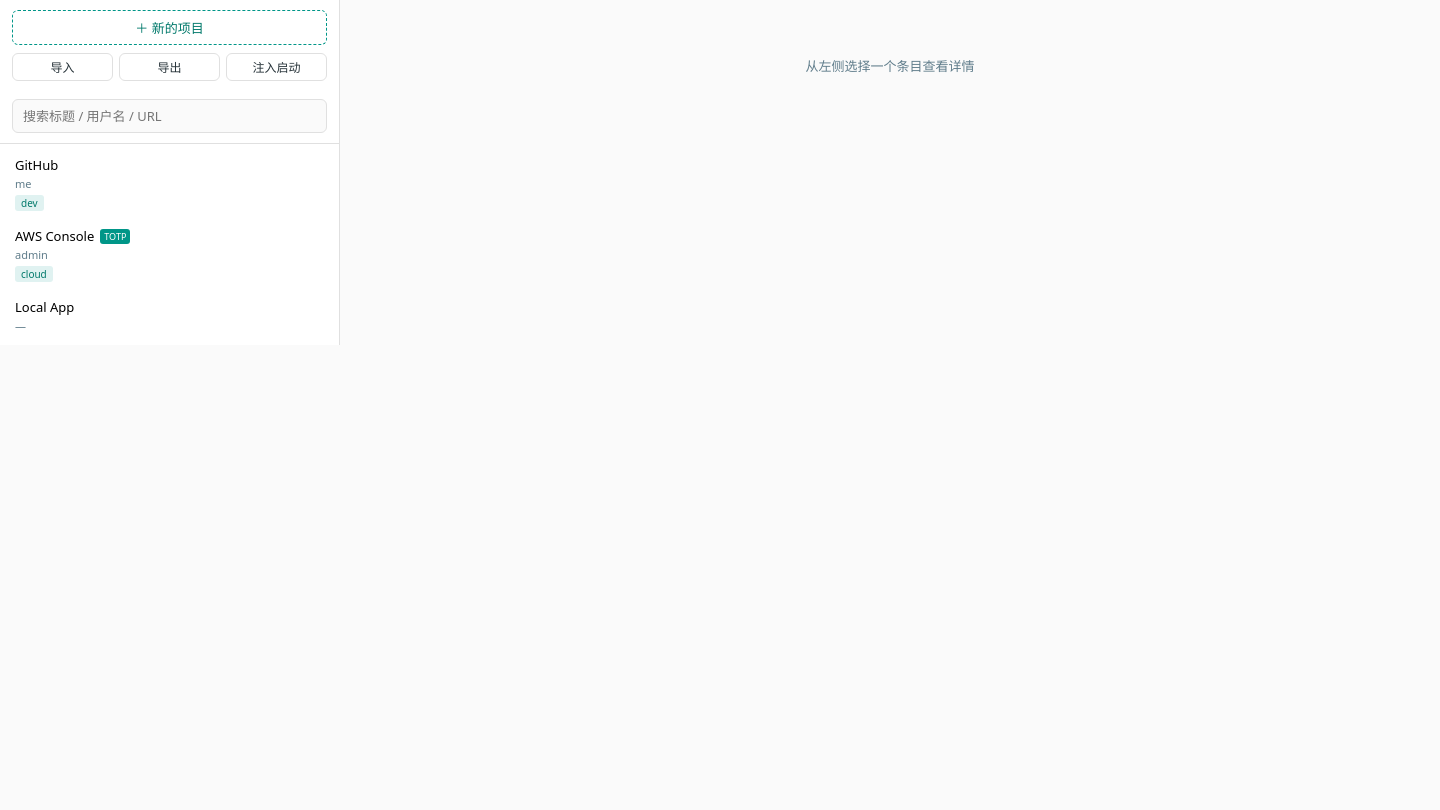
MainView › 「新的项目」→ 创建成功后刷新列表并选中新条目
Click the button with class "new-entry": coordinates (170, 28) [12, 10, 327, 45]
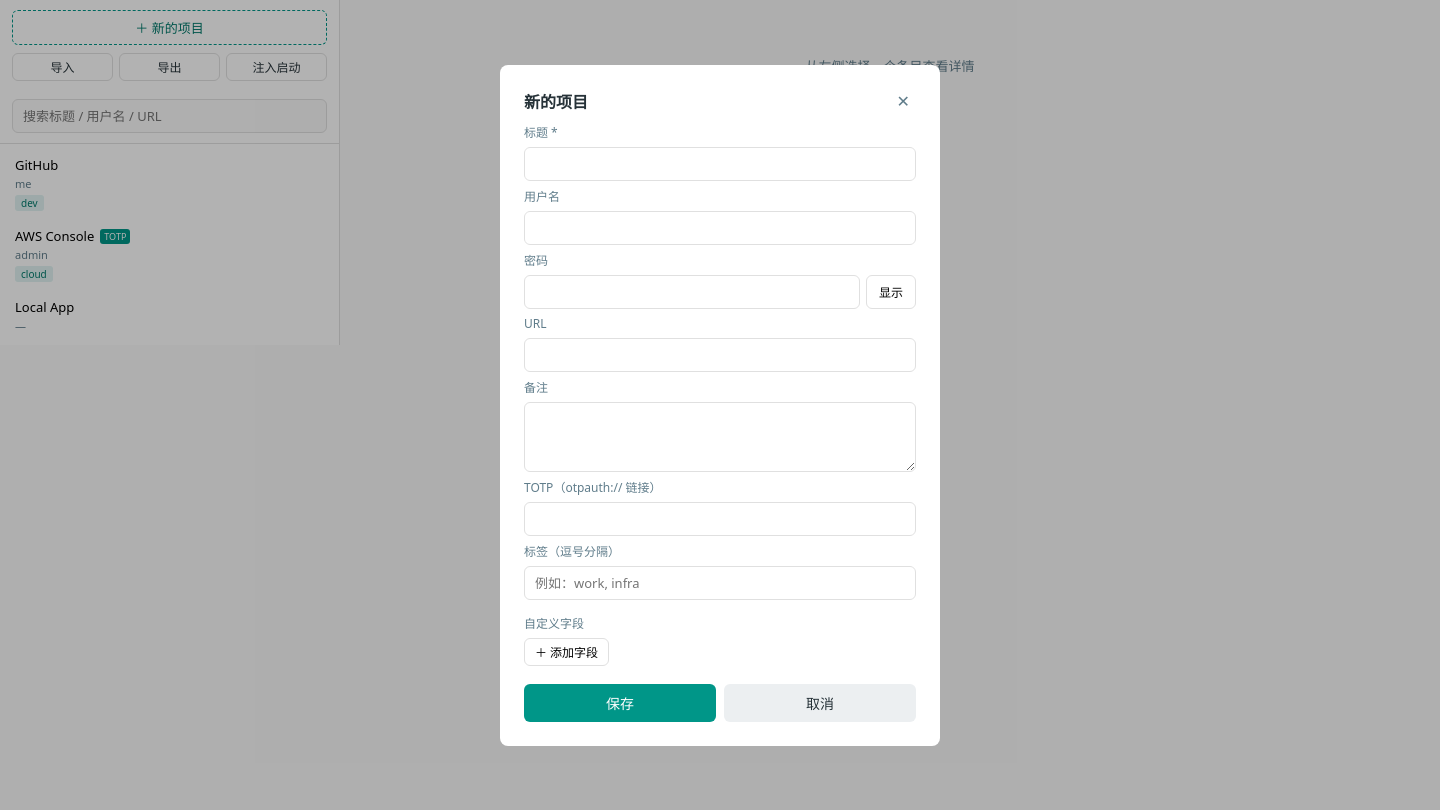
expect the element with class "form-panel" is shown: met, box [500, 64, 940, 746]
expect the element with class "form-panel" shows "新的项目": met, box [524, 90, 588, 112]
In the field with id "f-title": coordinates (720, 164) [524, 146, 916, 180], type "Brand New"
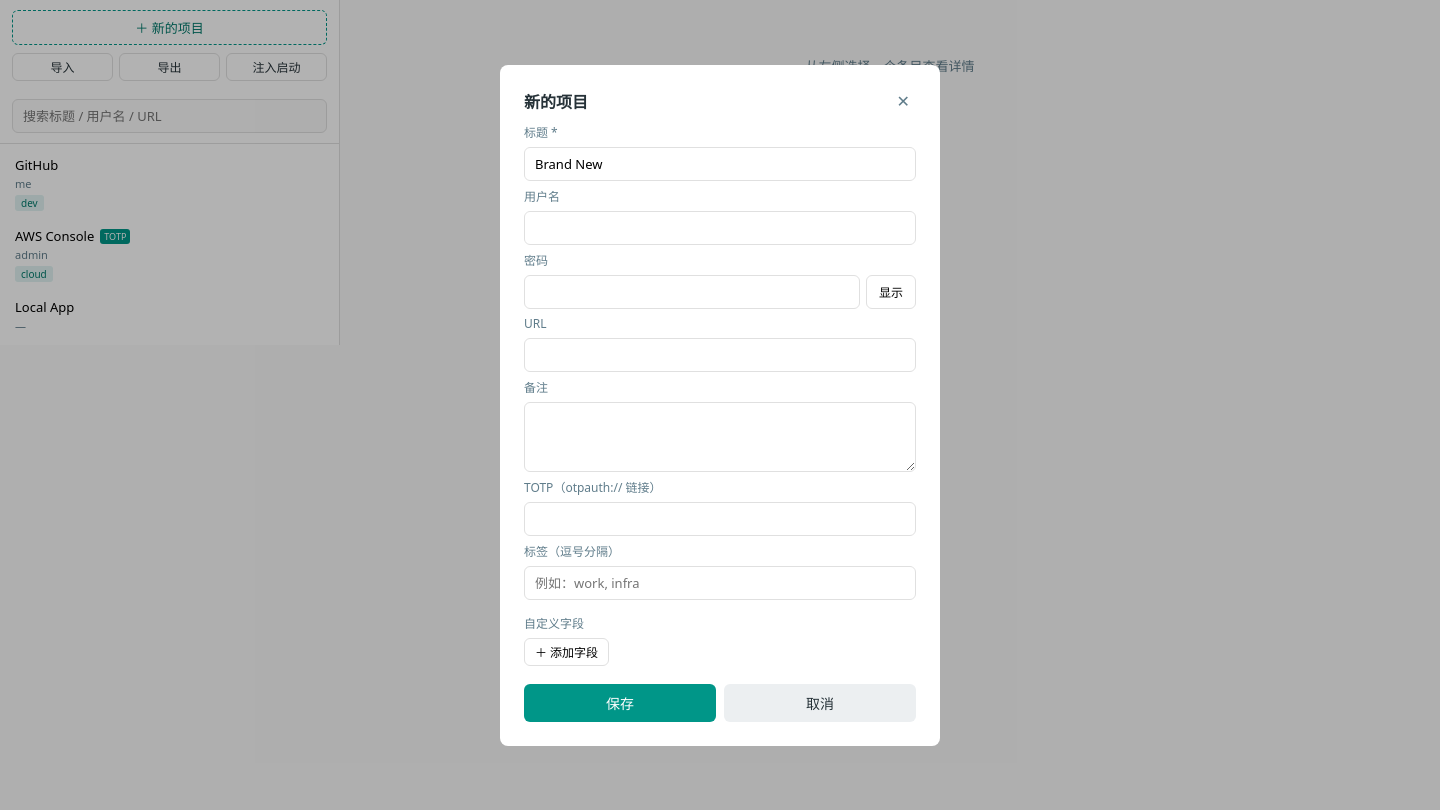
Click the button "保存": coordinates (620, 702) [524, 684, 716, 722]
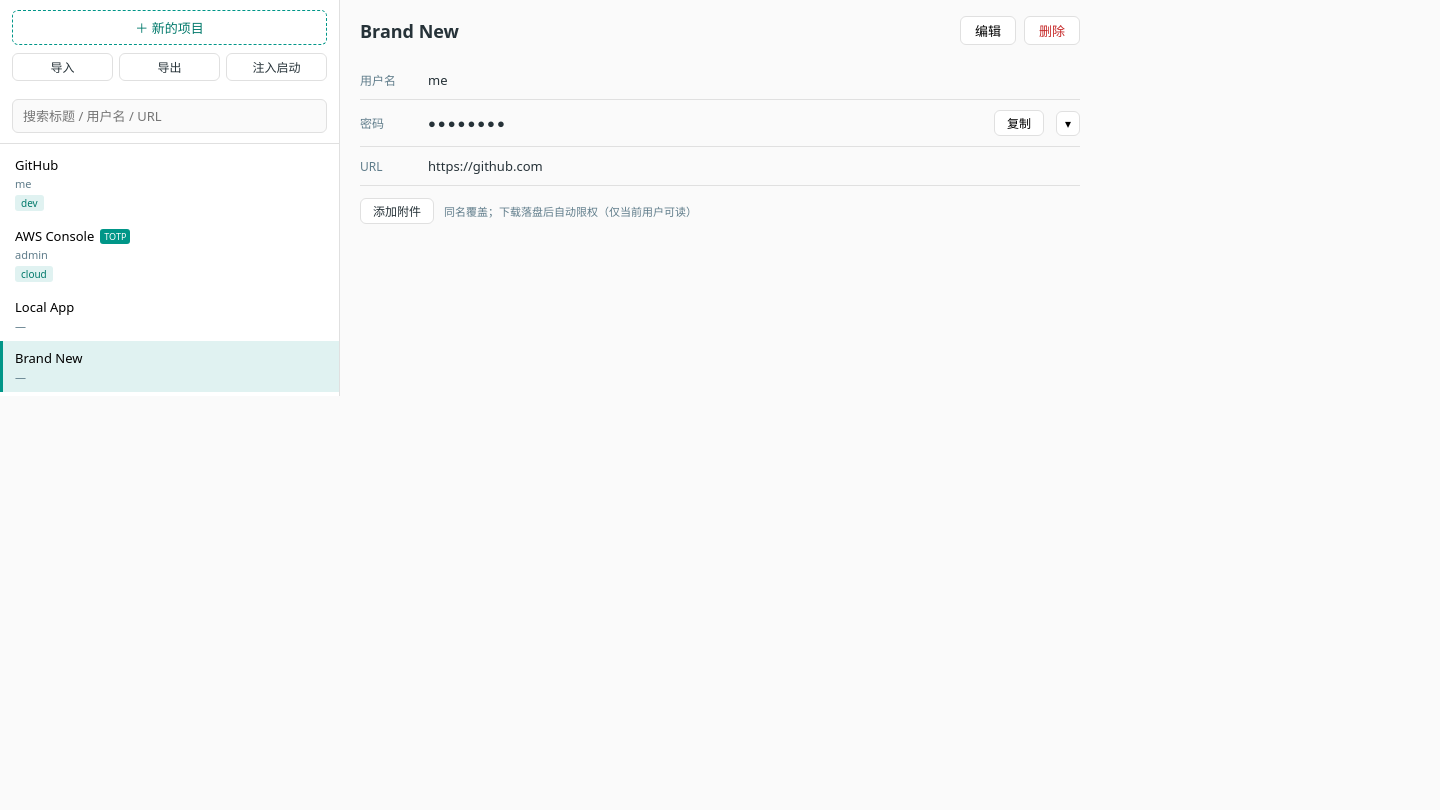
expect the text "Brand New" is shown: met, box [15, 349, 82, 367]
